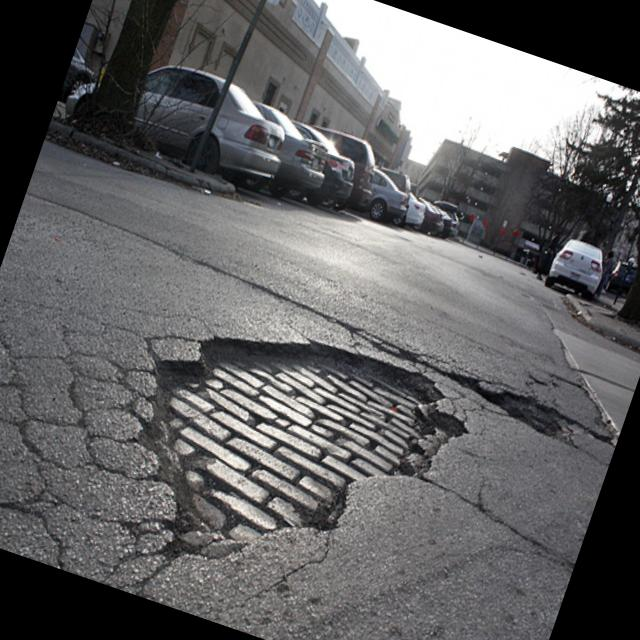Potholes: (94, 262, 483, 620), (420, 327, 616, 471)
